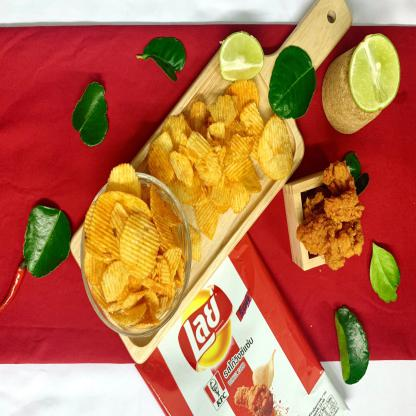potatochip: (134, 232, 353, 415)
